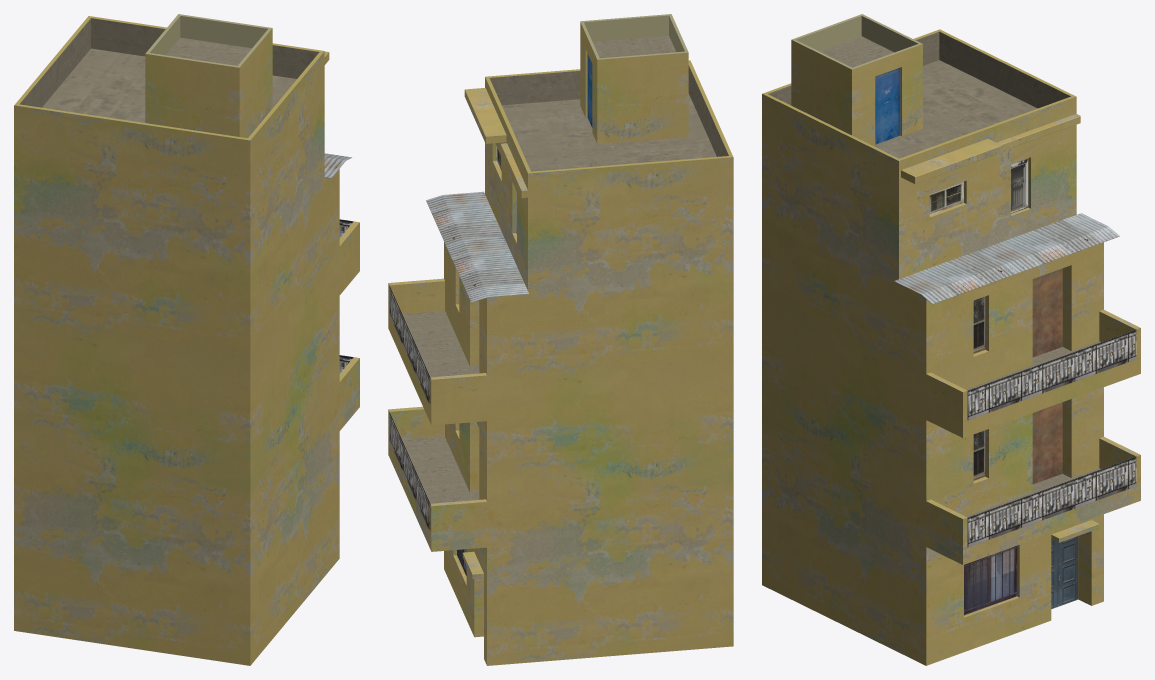
3 renders of one model, left to right at view 1: azimuth 30°, elevation 25°; view 2: azimuth 150°, elevation 25°; view 3: azimuth 270°, elevation 25°, orthographic. The views are drawn at different scales.
Visible parts, largest first — view 1: Yellow_Building; view 2: Yellow_Building; view 3: Yellow_Building.
Boxes of the visible parts, x1,y1,x2,y2 form: Yellow_Building: (14,14,359,665); Yellow_Building: (388,14,733,665); Yellow_Building: (762,14,1140,665).
Bounding box in the file's own units: 11.04 × 17.25 × 10.81.
2 materials, 2 textured.
